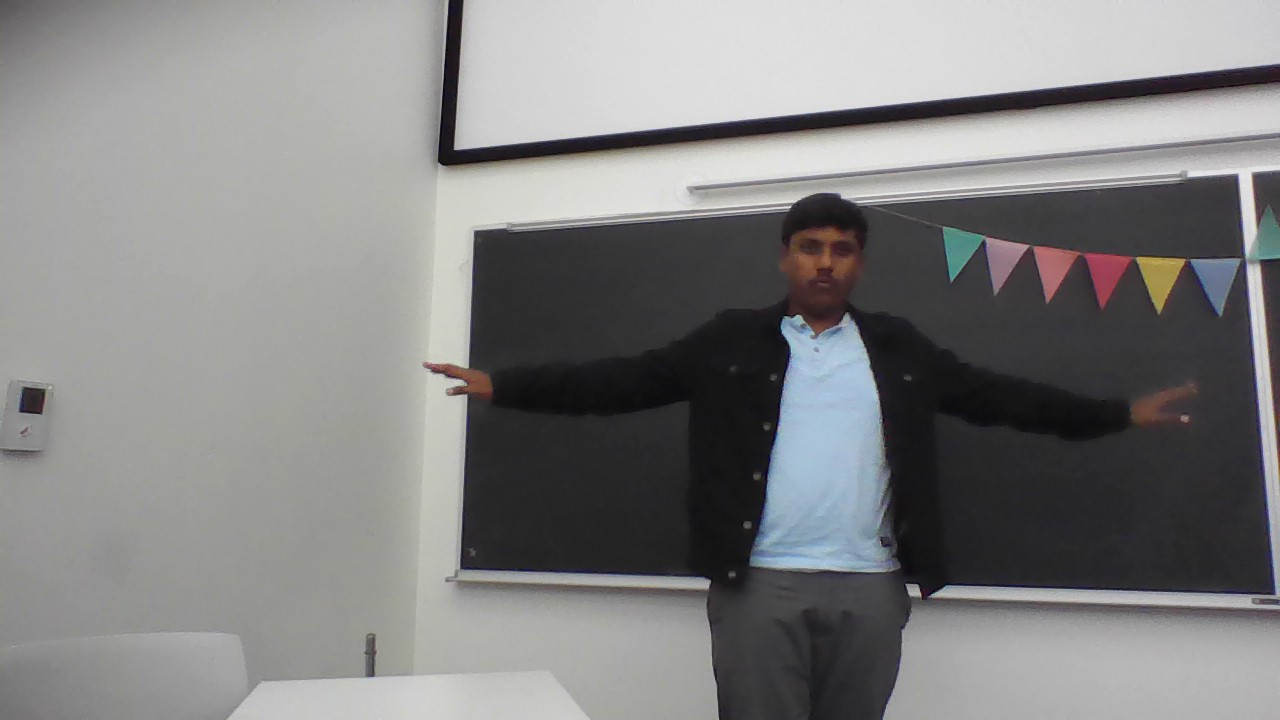height_frame: (667, 183, 965, 709)
hip_frame: (712, 547, 926, 577)
shoulder_frame: (715, 316, 915, 340)
waist_frame: (716, 466, 911, 493)
